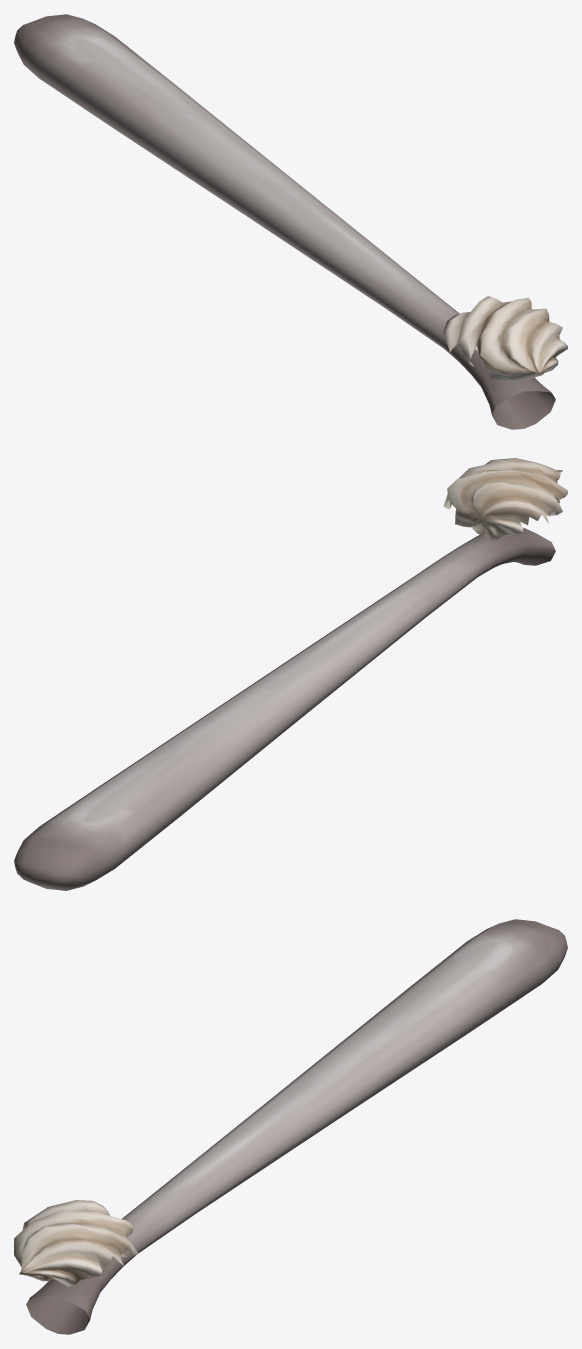
The model's file is WPMD_spoon_handle 1.fbx.
3 views of the same model, one above another, from view 1: azimuth 30°, elevation 25°; view 2: azimuth 150°, elevation 25°; view 3: azimuth 330°, elevation 25° (orthographic).
Visible parts, largest first — view 1: WPMD_spoon_handle; view 2: WPMD_spoon_handle; view 3: WPMD_spoon_handle.
Boxes of the visible parts, <box> form: WPMD_spoon_handle: <box>14,14,567,429</box>; WPMD_spoon_handle: <box>14,458,567,890</box>; WPMD_spoon_handle: <box>14,919,567,1334</box>.
Size of the model in its own units: 10.5 by 10.93 by 93.92.
